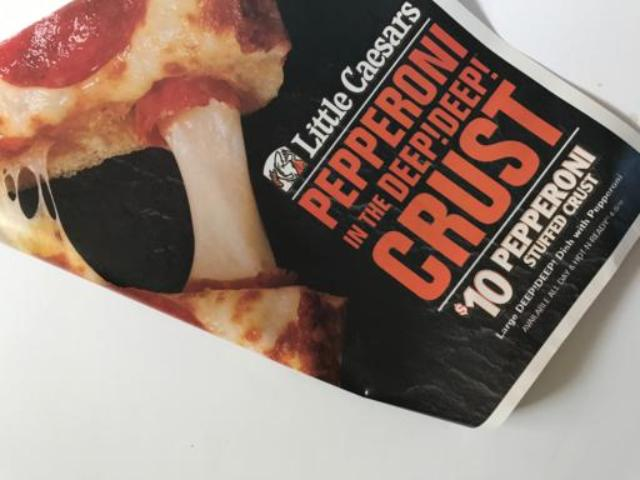cardboard paper: (0, 0, 638, 424)
